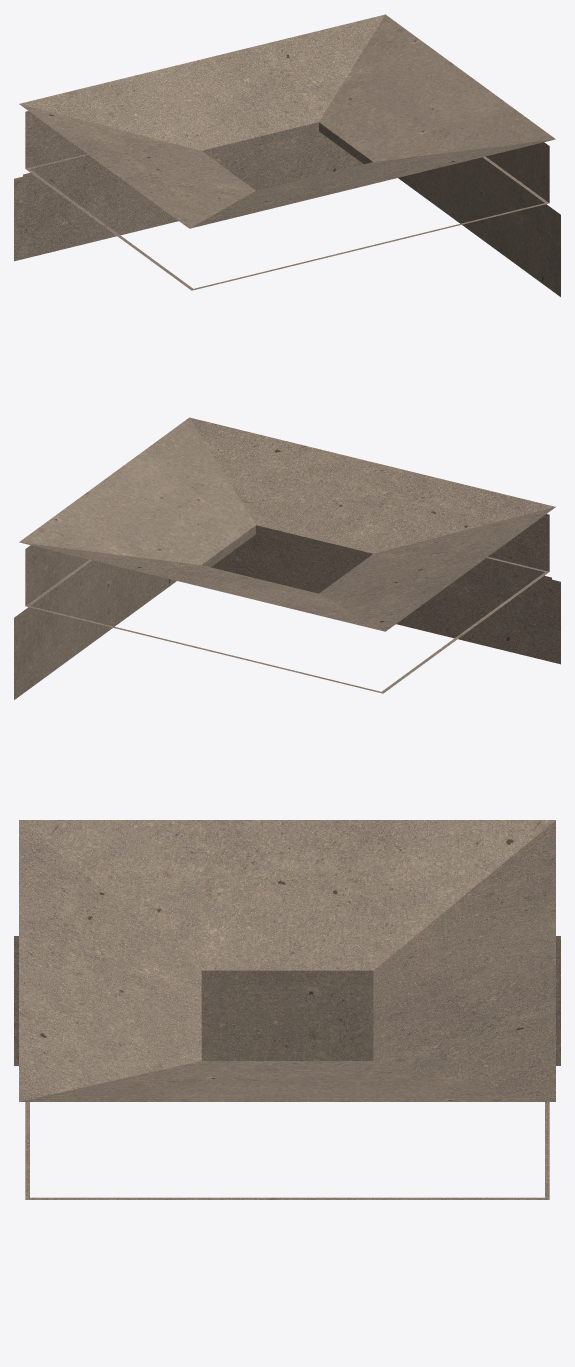
The model's file is mdl_apa_wall_upper.gltf.
The picture shows the model from 3 angles, top to bottom: view 1: azimuth 30°, elevation 25°; view 2: azimuth 150°, elevation 25°; view 3: azimuth 270°, elevation 25°; orthographic projection. The views are drawn at different scales.
Parts seen in each view (by area): view 1: mdl_apa_wall_upper; view 2: mdl_apa_wall_upper; view 3: mdl_apa_wall_upper.
Part boxes in pixels (bbox=[...]): mdl_apa_wall_upper: bbox=[14, 14, 560, 296]; mdl_apa_wall_upper: bbox=[14, 417, 560, 699]; mdl_apa_wall_upper: bbox=[14, 820, 560, 1199].
Size of the model in its own units: 11.92 by 4.81 by 9.6.
Materials: 1 (1 with a texture image).
